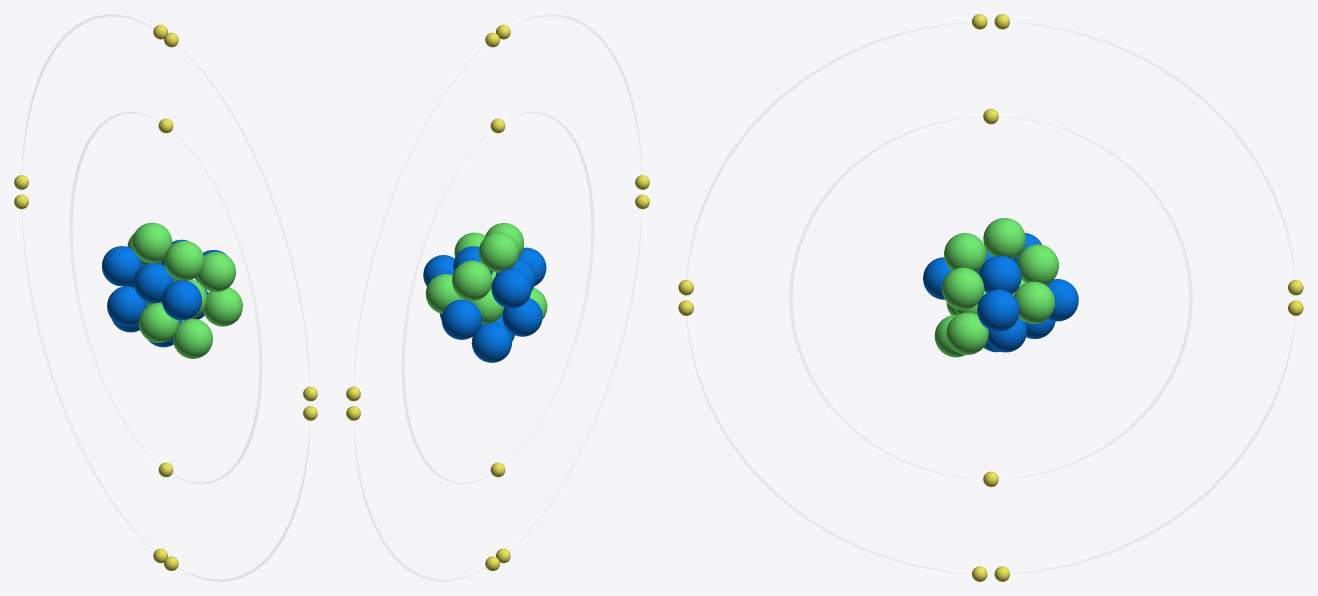
The model's file is neon.glb.
3 renders of one model, left to right at view 1: azimuth 30°, elevation 25°; view 2: azimuth 150°, elevation 25°; view 3: azimuth 270°, elevation 25°, orthographic. The views are drawn at different scales.
Parts seen in each view (by area): view 1: neutron.009_9, proton.001_11, neutron_0, neutron.002_2, proton.002_12, neutron.003_3, proton.003_13, neutron.006_6, neutron.007_7, proton.005_15, orbit.001_28, orbit_27 (+2 smaller); view 2: proton.002_12, proton.008_18, neutron.001_1, proton.009_19, neutron.002_2, proton.003_13, neutron.005_5, orbit.001_28, orbit_27, proton_10, neutron.004_4, proton.001_11 (+4 smaller); view 3: proton_10, neutron.006_6, neutron.003_3, neutron.002_2, neutron.005_5, neutron.001_1, neutron.009_9, proton.004_14, proton.008_18, orbit_27, orbit.001_28, proton.006_16.
Boxes of the visible parts, left/top/right/bottom form: neutron.009_9: left=164, top=241, right=204, bottom=280; proton.001_11: left=162, top=280, right=201, bottom=320; neutron_0: left=173, top=318, right=212, bottom=358; neutron.002_2: left=132, top=222, right=172, bottom=262; proton.002_12: left=102, top=246, right=141, bottom=286; neutron.003_3: left=203, top=287, right=242, bottom=326; proton.003_13: left=107, top=286, right=147, bottom=326; neutron.006_6: left=196, top=252, right=235, bottom=291; neutron.007_7: left=138, top=303, right=178, bottom=342; proton.005_15: left=134, top=262, right=173, bottom=302; orbit.001_28: left=70, top=112, right=145, bottom=450; orbit_27: left=180, top=146, right=261, bottom=483; proton.002_12: left=491, top=268, right=531, bottom=308; proton.008_18: left=441, top=299, right=481, bottom=339; neutron.001_1: left=452, top=260, right=492, bottom=300; proton.009_19: left=471, top=322, right=511, bottom=362; neutron.002_2: left=478, top=232, right=518, bottom=272; proton.003_13: left=502, top=298, right=542, bottom=336; neutron.005_5: left=425, top=274, right=464, bottom=313; orbit.001_28: left=402, top=146, right=483, bottom=483; orbit_27: left=517, top=112, right=593, bottom=449; proton_10: left=423, top=255, right=454, bottom=286; neutron.004_4: left=467, top=286, right=504, bottom=324; proton.001_11: left=518, top=247, right=546, bottom=285; proton_10: left=977, top=289, right=1019, bottom=331; neutron.006_6: left=942, top=267, right=984, bottom=309; neutron.003_3: left=946, top=312, right=988, bottom=354; neutron.002_2: left=983, top=218, right=1025, bottom=258; neutron.005_5: left=1014, top=281, right=1054, bottom=323; neutron.001_1: left=1016, top=244, right=1058, bottom=284; neutron.009_9: left=944, top=233, right=986, bottom=271; proton.004_14: left=979, top=255, right=1021, bottom=294; proton.008_18: left=1046, top=279, right=1078, bottom=321; orbit_27: left=789, top=118, right=962, bottom=477; orbit.001_28: left=1019, top=118, right=1191, bottom=477; proton.006_16: left=987, top=317, right=1026, bottom=352.
Size of the model in its own units: 6.73 by 29.38 by 29.38.
